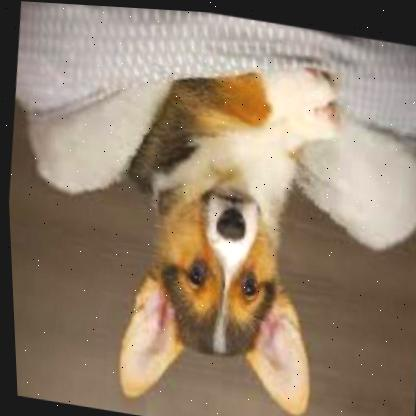dog: (95, 27, 363, 416)
